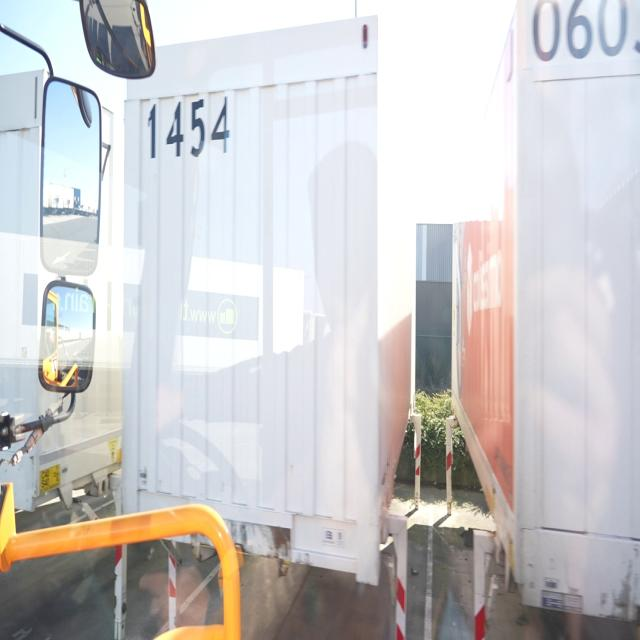Code: (142, 91, 242, 172)
